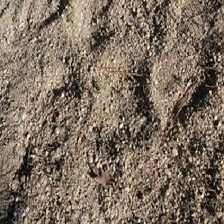sandy_soil: (7, 15, 214, 208)
